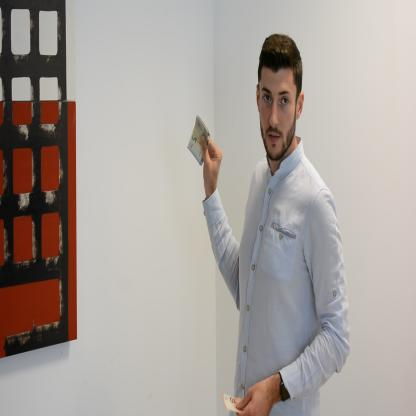billete: (187, 115, 210, 166), (223, 392, 252, 413)
